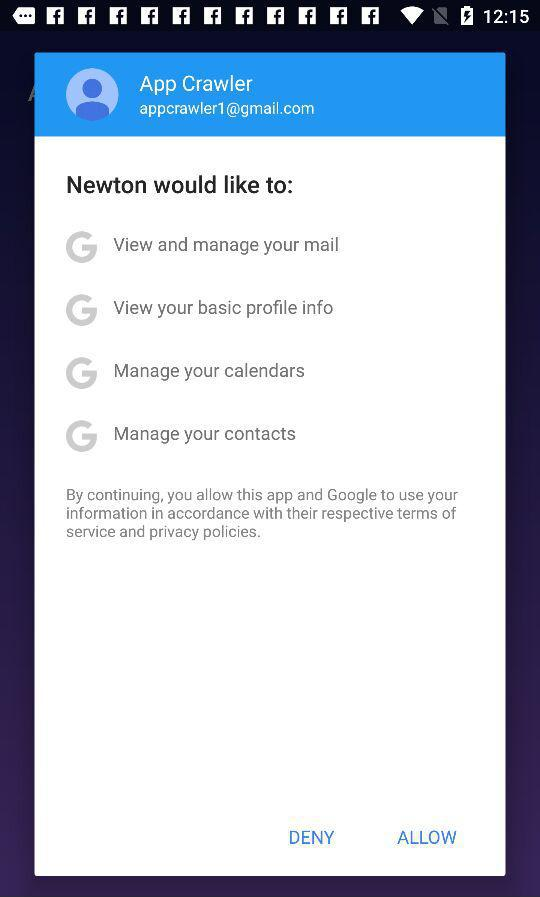Icon: (66, 68, 120, 121)
Modal: (35, 52, 506, 877)
Text: (66, 487, 459, 541), (114, 236, 340, 257), (113, 299, 335, 320), (67, 175, 294, 195), (114, 362, 306, 383), (115, 427, 297, 446), (140, 101, 316, 119), (139, 74, 254, 97), (66, 230, 99, 265), (66, 419, 99, 453), (66, 356, 99, 390), (66, 294, 99, 328), (396, 830, 457, 845), (289, 830, 336, 845)
UpperTaskBar: (1, 1, 540, 33)
